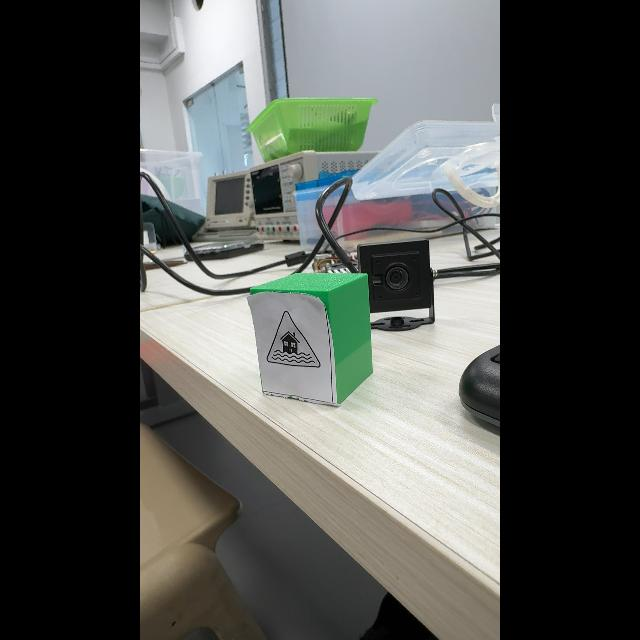Tsunami: (267, 311, 320, 368)
